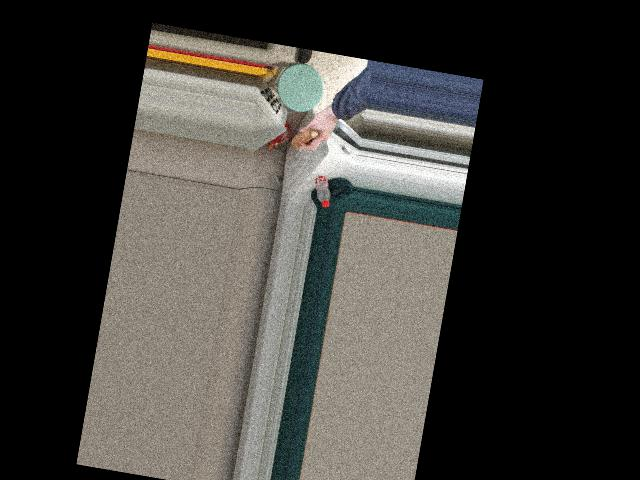sweet_potato: (291, 122, 322, 154)
